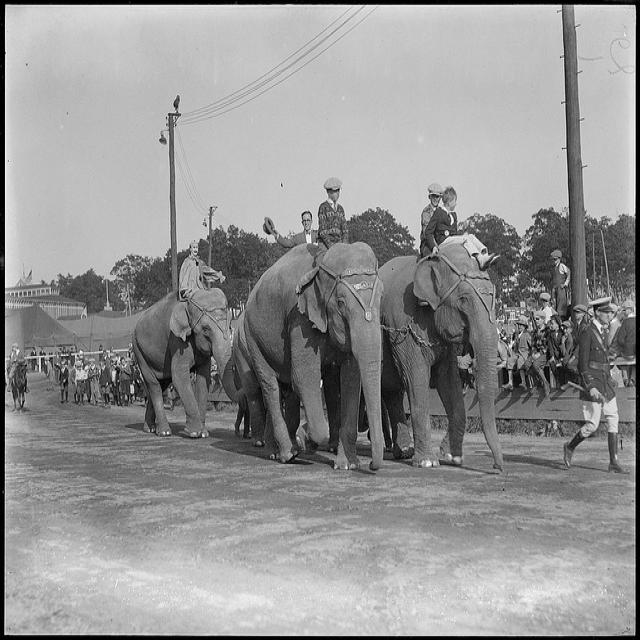Elephant: (234, 240, 387, 470), (376, 236, 504, 472), (131, 286, 235, 438)
person: (563, 294, 630, 473), (317, 176, 348, 251), (262, 209, 318, 247), (549, 248, 571, 321)
